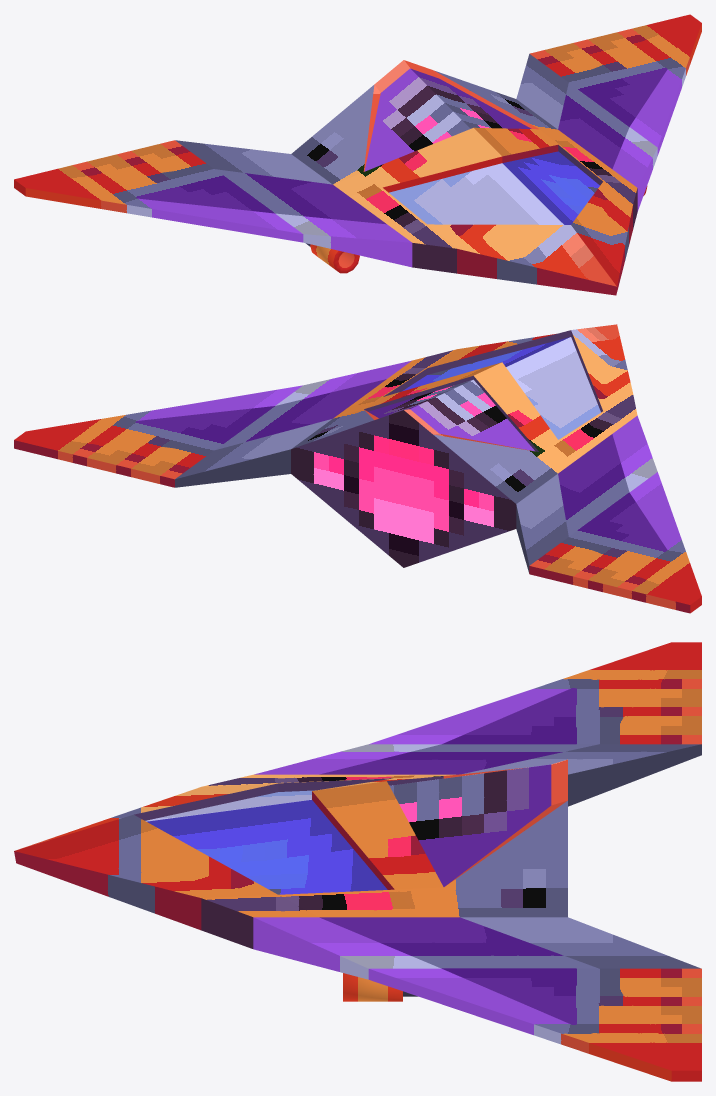
Rendered from pixel_space_ship.glb.
3 renders of one model, top to bottom at view 1: azimuth 30°, elevation 25°; view 2: azimuth 150°, elevation 25°; view 3: azimuth 270°, elevation 25°, orthographic. The views are drawn at different scales.
Parts seen in each view (by area): view 1: Cube; view 2: Cube; view 3: Cube.
Boxes of the visible parts, x1=… form: Cube: x1=14, y1=14, x2=701, y2=295; Cube: x1=14, y1=324, x2=701, y2=613; Cube: x1=14, y1=642, x2=701, y2=1081.
Size of the model in its own units: 278 by 62.11 by 189.
Materials: 1 (1 with a texture image).
